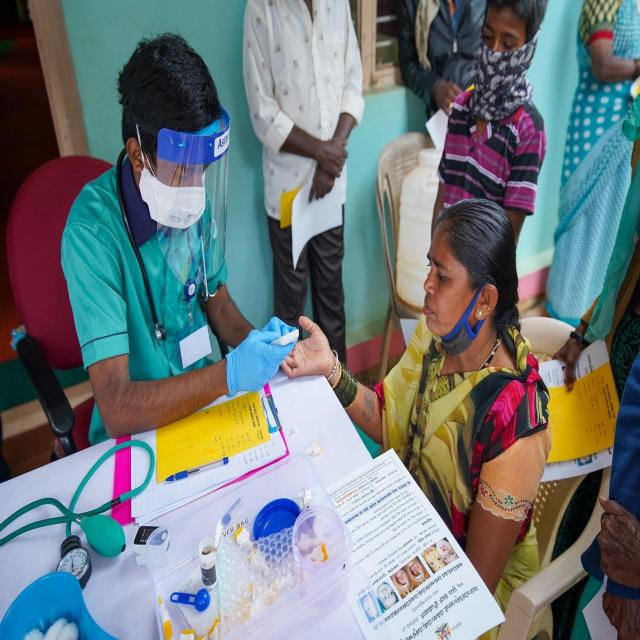Gloves: (224, 317, 300, 397)
Mask: (140, 166, 205, 234)
